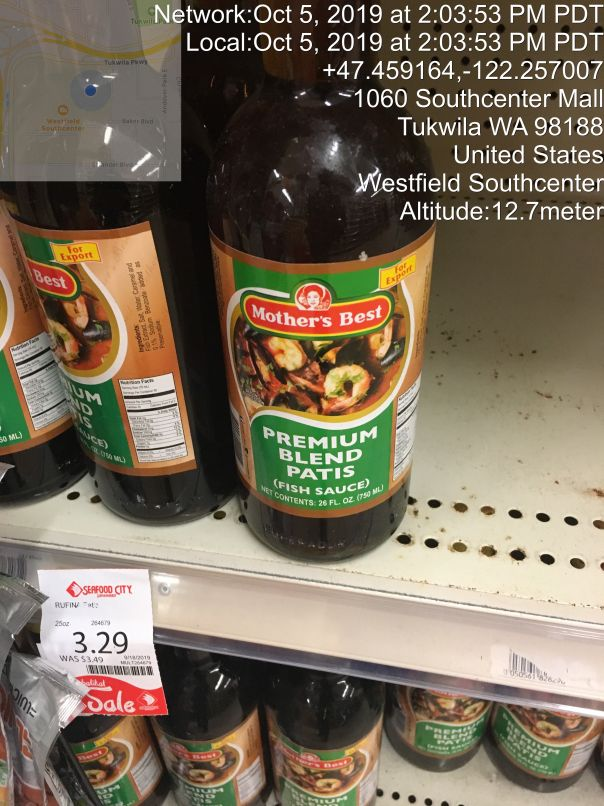Fish Sauce: (6, 18, 238, 535), (221, 25, 425, 566)
Location: (346, 82, 604, 196)
Time: (150, 1, 604, 57)
Void: (437, 21, 604, 570)
